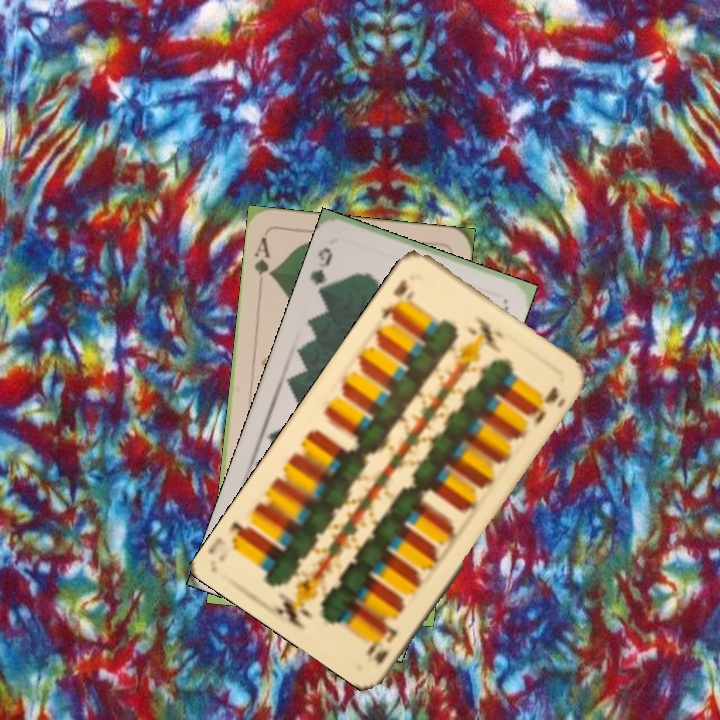E10: (376, 275, 417, 325), (362, 620, 399, 667)
G9: (306, 243, 335, 296)
GA: (250, 233, 275, 280)
